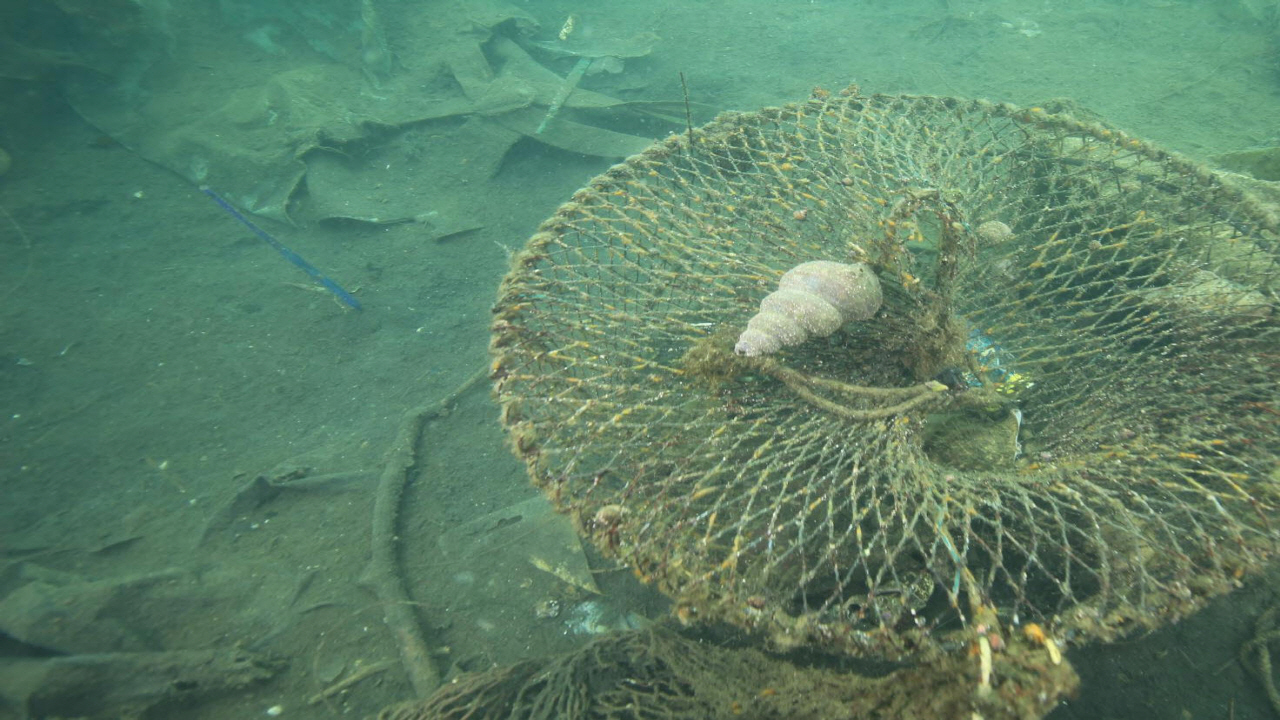circular fish trap: (490, 93, 1280, 719)
